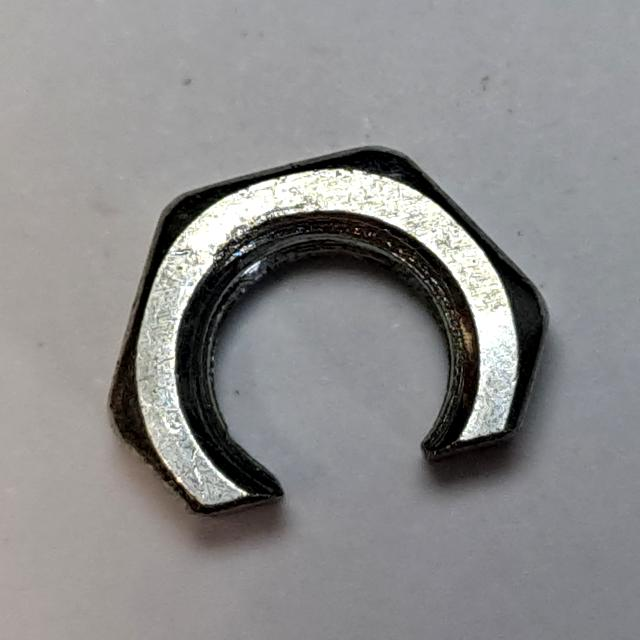Fracture: (90, 130, 563, 536)
